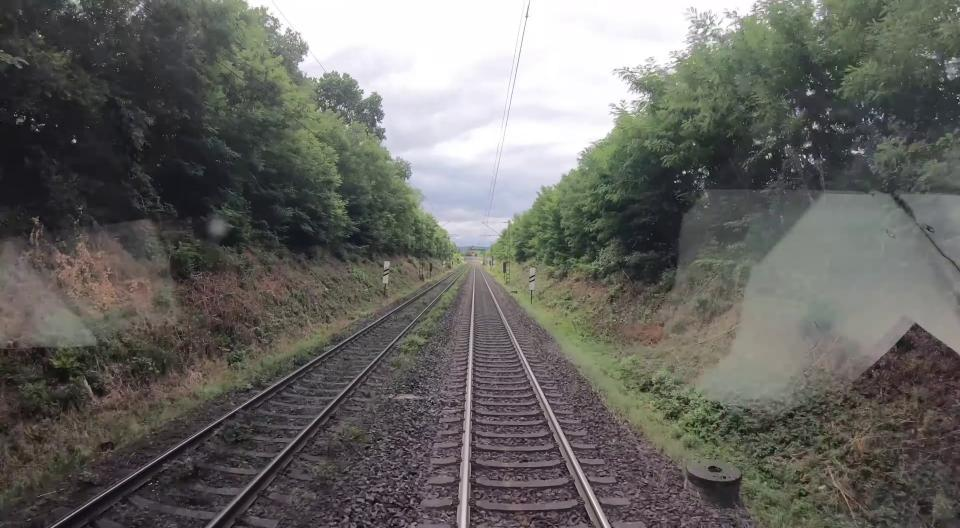Plant: (389, 276, 464, 372), (159, 451, 207, 484), (213, 414, 256, 444), (307, 458, 342, 483), (340, 422, 366, 442), (205, 446, 234, 460)
